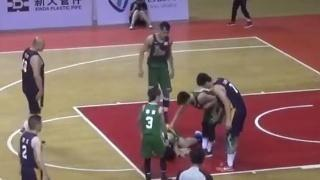Fall-Detected: (159, 121, 213, 157)
